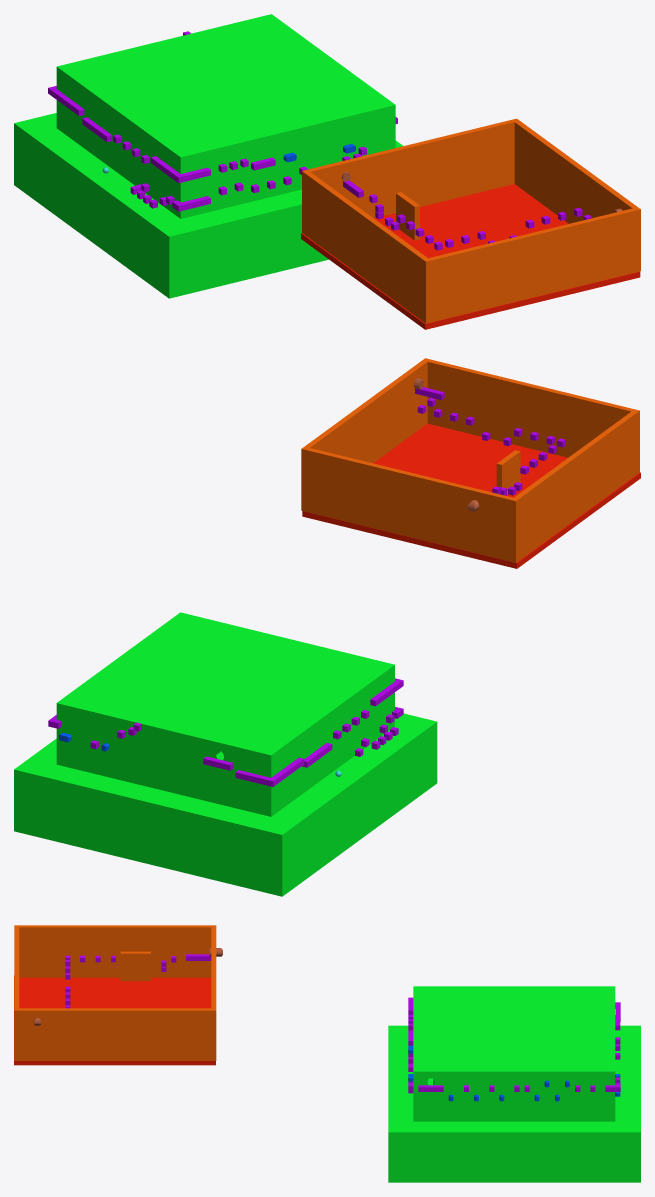
Rendered from prototipoplataformas.fbx.
3 renders of one model, top to bottom at view 1: azimuth 30°, elevation 25°; view 2: azimuth 150°, elevation 25°; view 3: azimuth 270°, elevation 25°, orthographic. The views are drawn at different scales.
Visible parts, largest first — view 1: primer nivel con cueva, Piso normal, Cube.054, Cube.053, Cube.064, Cube.056, Cube.055, Cube.071, Cube.025; view 2: primer nivel con cueva, Piso normal, Cube.053, Cube.054, Cube.064, Cube.056, Cube.055, Cube.071; view 3: primer nivel con cueva, Piso normal, Cube.055, Cube.056, Cube.064, Cube.071, Cube.053, Cube.054.
Part boxes in pixels (x1=…): primer nivel con cueva: x1=56, y1=14, x2=395, y2=218; Piso normal: x1=14, y1=113, x2=403, y2=298; Cube.054: x1=423, y1=207, x2=640, y2=323; Cube.053: x1=302, y1=118, x2=519, y2=234; Cube.064: x1=301, y1=184, x2=640, y2=329; Cube.056: x1=305, y1=172, x2=427, y2=321; Cube.055: x1=514, y1=121, x2=637, y2=223; Cube.071: x1=396, y1=192, x2=419, y2=240; Cube.025: x1=150, y1=156, x2=210, y2=183; primer nivel con cueva: x1=56, y1=612, x2=394, y2=816; Piso normal: x1=14, y1=713, x2=437, y2=896; Cube.053: x1=301, y1=446, x2=518, y2=562; Cube.054: x1=422, y1=358, x2=639, y2=473; Cube.064: x1=302, y1=423, x2=640, y2=568; Cube.056: x1=514, y1=411, x2=636, y2=560; Cube.055: x1=305, y1=360, x2=427, y2=463; Cube.071: x1=496, y1=450, x2=520, y2=494; primer nivel con cueva: x1=413, y1=986, x2=615, y2=1121; Piso normal: x1=388, y1=1025, x2=640, y2=1182; Cube.055: x1=19, y1=1008, x2=211, y2=1060; Cube.056: x1=19, y1=925, x2=211, y2=977; Cube.064: x1=14, y1=975, x2=215, y2=1065; Cube.071: x1=120, y1=951, x2=150, y2=981; Cube.053: x1=211, y1=925, x2=216, y2=1060; Cube.054: x1=14, y1=925, x2=19, y2=1060.
Size of the model in its own units: 5000 by 3530 by 12414.
